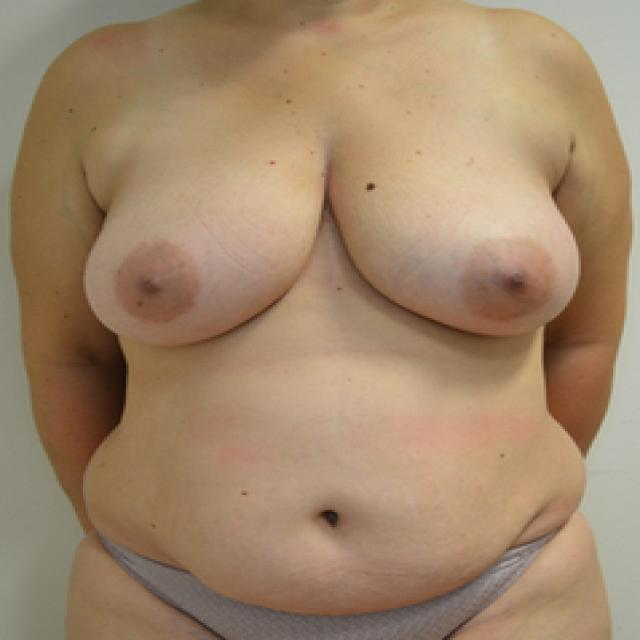Seno ileso: (329, 144, 591, 352), (73, 145, 321, 361)
